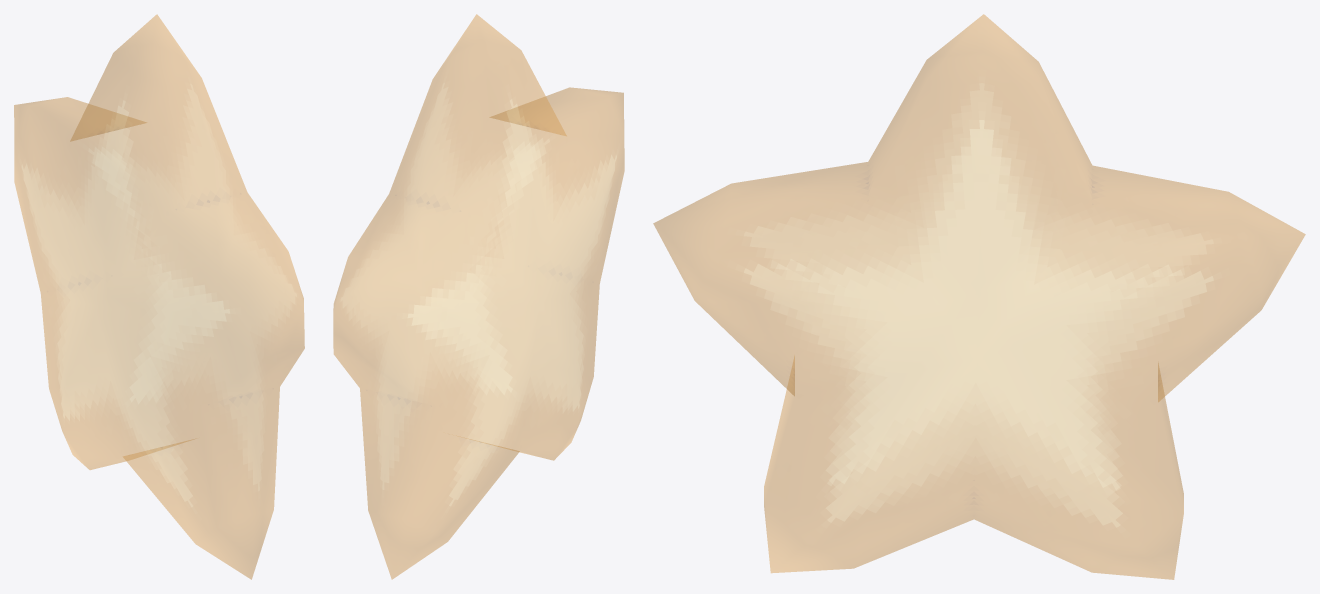
File: Smol Star.glb
3 renders of one model, left to right at view 1: azimuth 30°, elevation 25°; view 2: azimuth 150°, elevation 25°; view 3: azimuth 270°, elevation 25°, orthographic. The views are drawn at different scales.
Parts seen in each view (by area): view 1: Random Star.001; view 2: Random Star.001; view 3: Random Star.001.
Part boxes in pixels (left/top/right/bottom): Random Star.001: left=14, top=14, right=304, bottom=579; Random Star.001: left=333, top=14, right=624, bottom=579; Random Star.001: left=653, top=14, right=1305, bottom=579.
Size of the model in its own units: 0.0859 by 0.3402 by 0.3556.
Materials: 1 (1 with a texture image).
